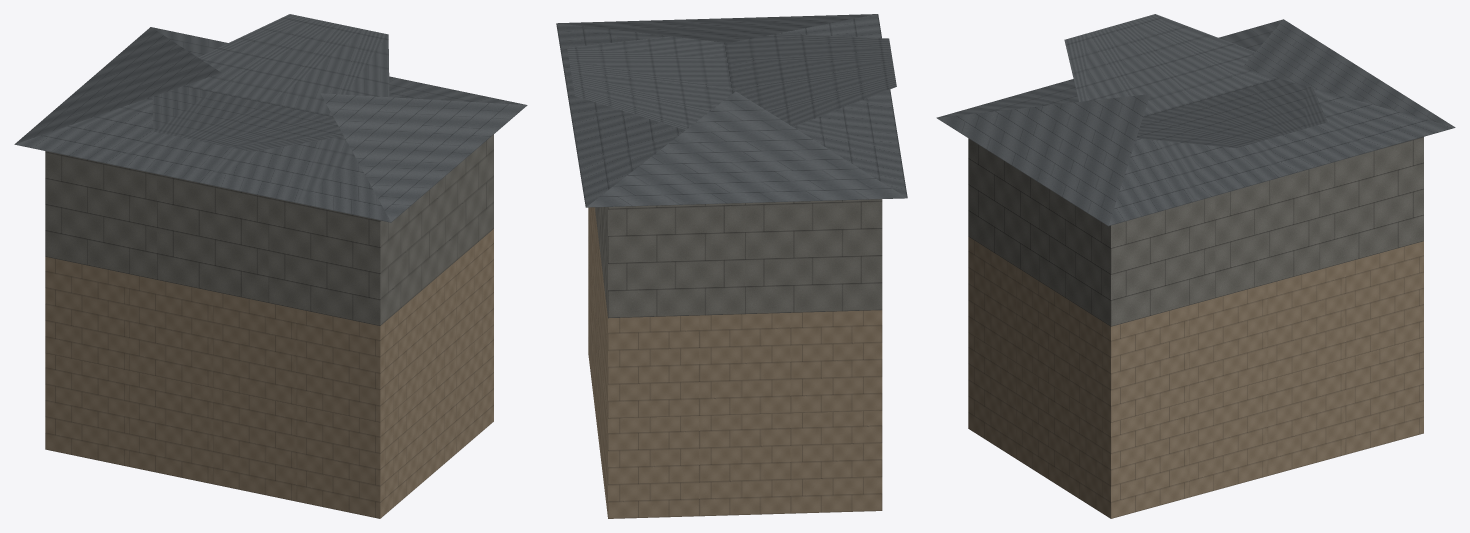
File: bld_c43_32_258.gltf
3 views of the same model, side by side, from view 1: azimuth 30°, elevation 25°; view 2: azimuth 150°, elevation 25°; view 3: azimuth 270°, elevation 25° (orthographic). The views are drawn at different scales.
Visible parts, largest first — view 1: bld_c43_32_258; view 2: bld_c43_32_258; view 3: bld_c43_32_258.
Part boxes in pixels (left/top/right/bottom): bld_c43_32_258: left=14, top=14, right=527, bottom=518; bld_c43_32_258: left=556, top=14, right=907, bottom=518; bld_c43_32_258: left=936, top=14, right=1455, bottom=518.
Size of the model in its own units: 10.65 by 8.4 by 11.3.
3 materials, 3 textured.
